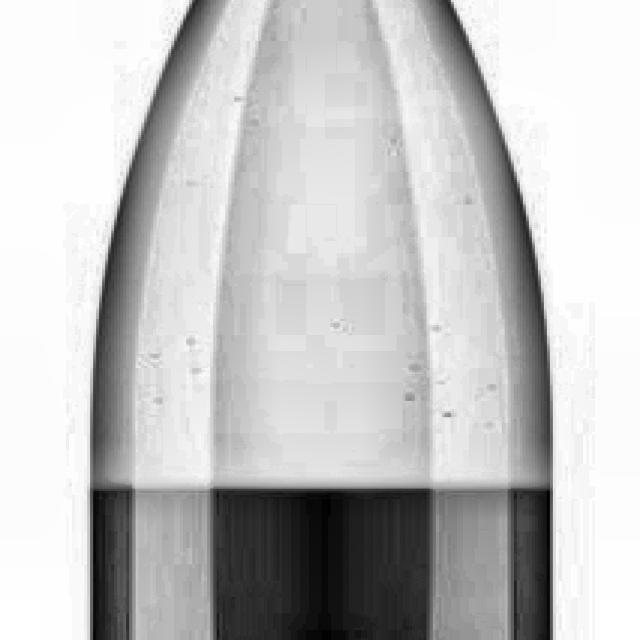bottle: (78, 0, 559, 640)
